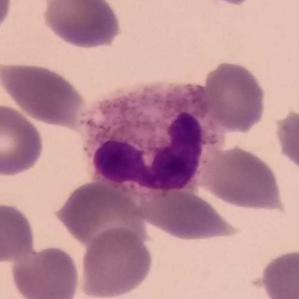Neutrophil: (78, 75, 212, 200)
RBC: (52, 179, 148, 252), (137, 180, 245, 244), (0, 58, 89, 127), (198, 143, 286, 212), (77, 224, 155, 299), (200, 59, 269, 133), (39, 0, 125, 50), (9, 243, 82, 299), (0, 101, 46, 177), (0, 199, 37, 265), (255, 246, 299, 299), (272, 104, 299, 177), (0, 0, 14, 40), (209, 0, 257, 7)
